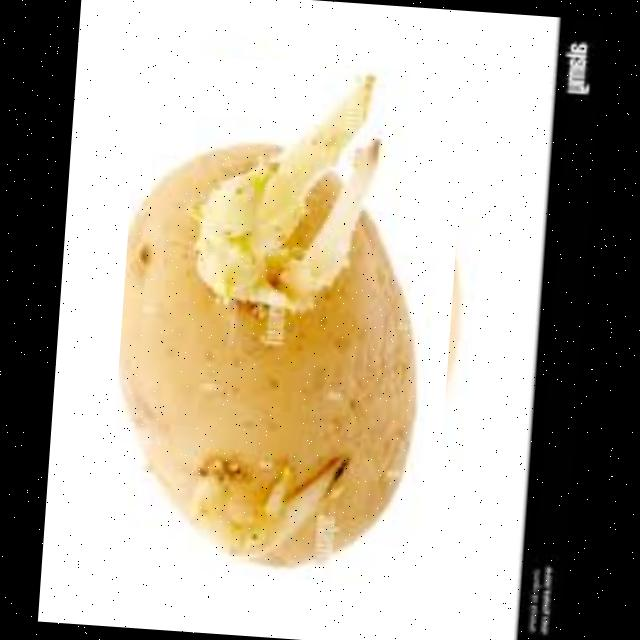Sprouted potato: (104, 50, 468, 598)
